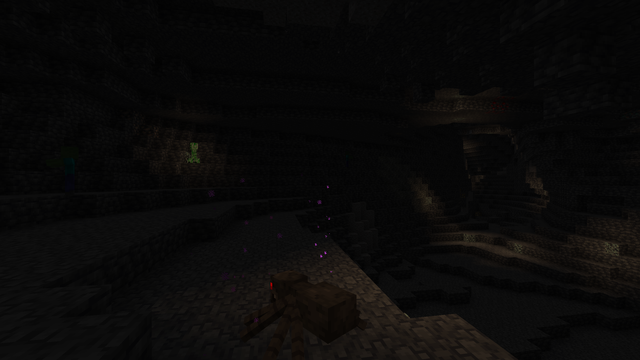araignees: (260, 262, 353, 357)
creepers: (188, 141, 198, 162)
zombies: (55, 147, 82, 194), (344, 151, 350, 167)
